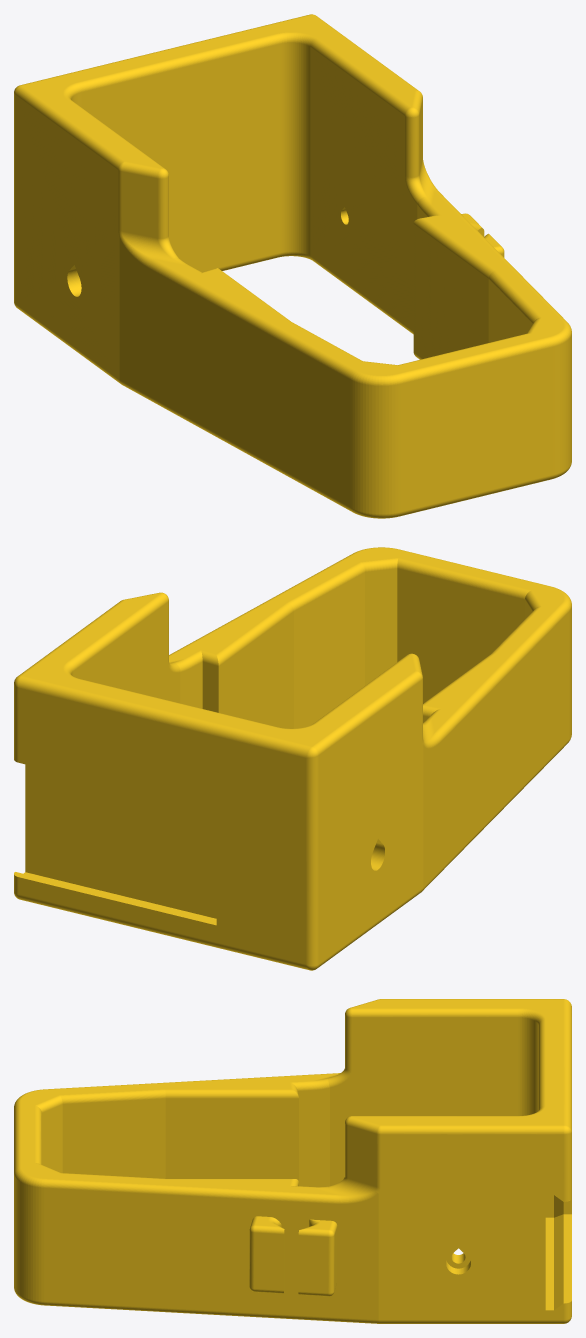
The model's file is base_visuals_base_motor_holder_so101_v1_mesh.obj.
3 renders of one model, top to bottom at view 1: azimuth 30°, elevation 25°; view 2: azimuth 150°, elevation 25°; view 3: azimuth 270°, elevation 25°, orthographic. The views are drawn at different scales.
Bounding box in the file's own units: 0.0476 × 0.0314 × 0.0802.
